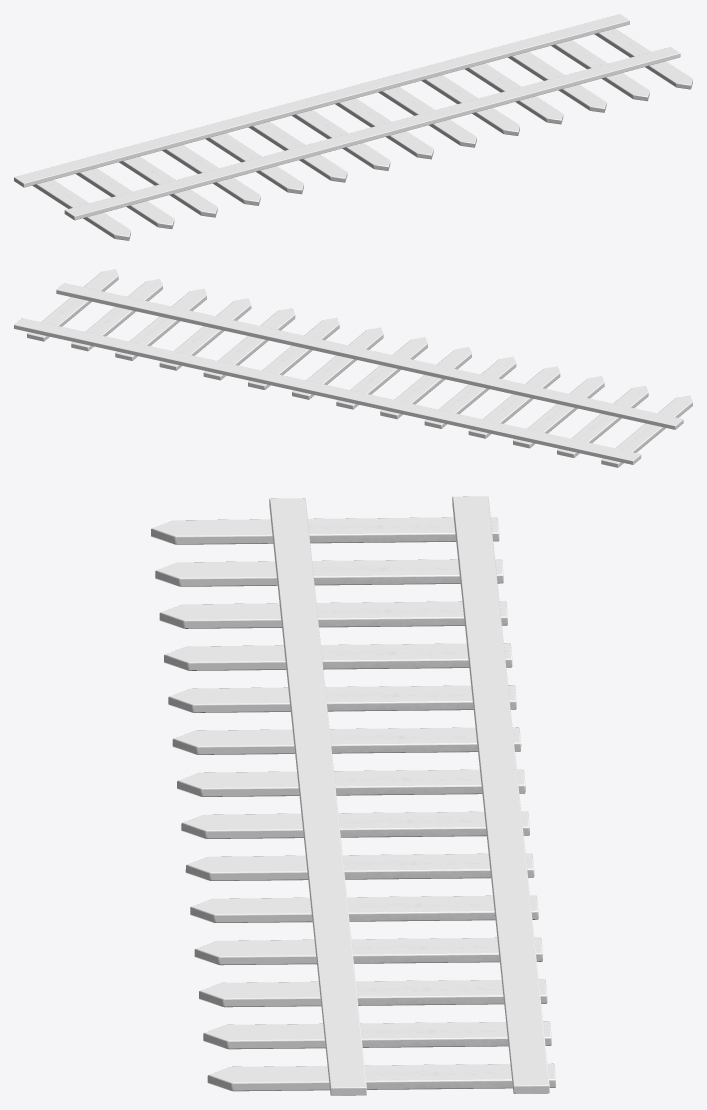
Rendered from barriere (2).fbx.
3 renders of one model, top to bottom at view 1: azimuth 30°, elevation 25°; view 2: azimuth 150°, elevation 25°; view 3: azimuth 270°, elevation 25°, orthographic. The views are drawn at different scales.
Parts seen in each view (by area): view 1: barriere__2_; view 2: barriere__2_; view 3: barriere__2_.
Part boxes in pixels (x1,y1,x2,y2): barriere__2_: (14, 14, 692, 240); barriere__2_: (14, 269, 692, 467); barriere__2_: (151, 496, 555, 1095).
Size of the model in its own units: 471 by 6.96 by 136.
